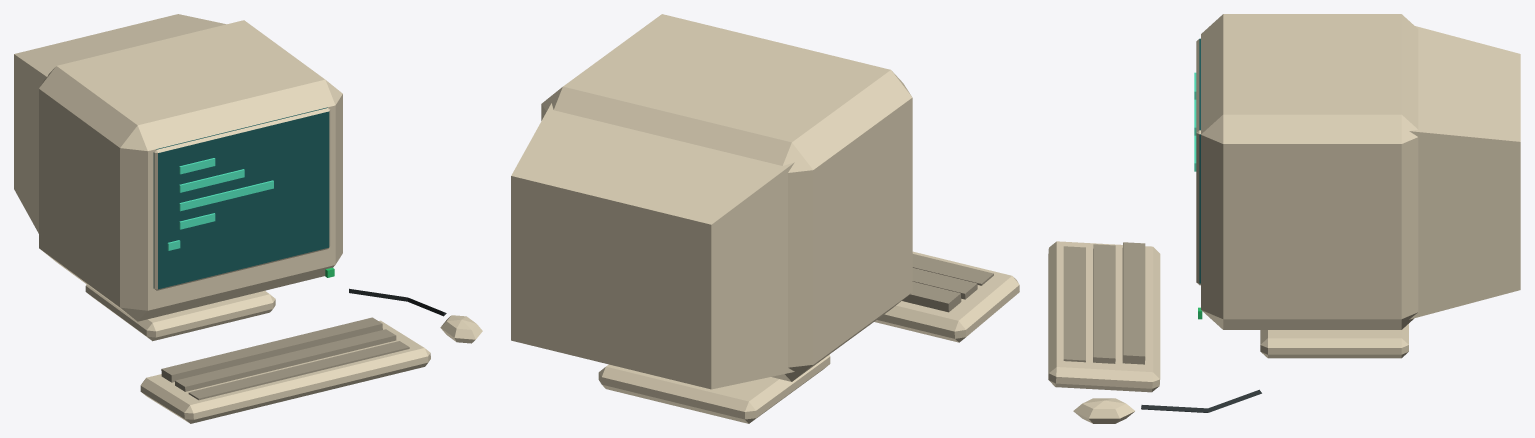
File: computer.glb
3 renders of one model, left to right at view 1: azimuth 30°, elevation 25°; view 2: azimuth 150°, elevation 25°; view 3: azimuth 270°, elevation 25°, orthographic. The views are drawn at different scales.
Visible parts, largest first — view 1: computer-m; view 2: computer-m; view 3: computer-m.
Part boxes in pixels (left/top/right/bottom): computer-m: left=14, top=14, right=482, bottom=423; computer-m: left=511, top=14, right=1019, bottom=423; computer-m: left=1048, top=14, right=1520, bottom=423.
Bounding box in the file's own units: 0.5342 × 0.3939 × 0.6352.
